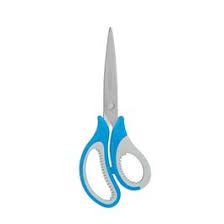tihiras: (77, 24, 154, 210)
